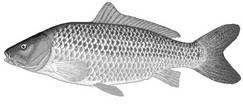Grass Carp: (5, 2, 241, 97)
